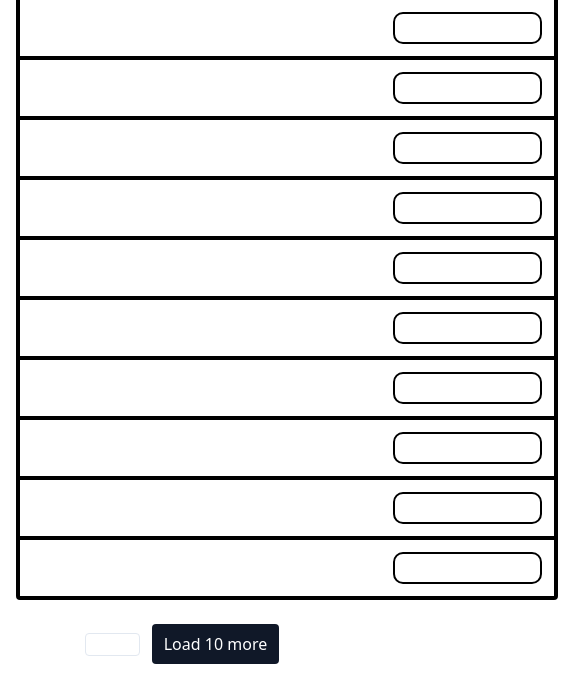
Test: LandmarksPage › Stage 10: clicking Load more reveals the next page and updates the counter
The width and height of the screenshot is (575, 682).
(page scrolled)
# Load next 10
Click the button "Load 10 more" at (215, 644), box [152,624,279,664]
(page scrolled)
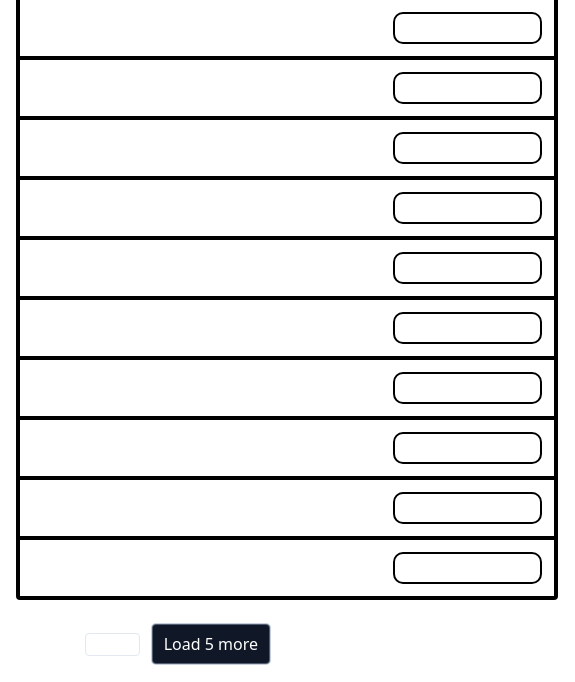
Expected: the text "Place 21" is not shown
# Load the last 5
Click the button "Load 5 more" at (211, 644), box [152,624,270,664]
(page scrolled)
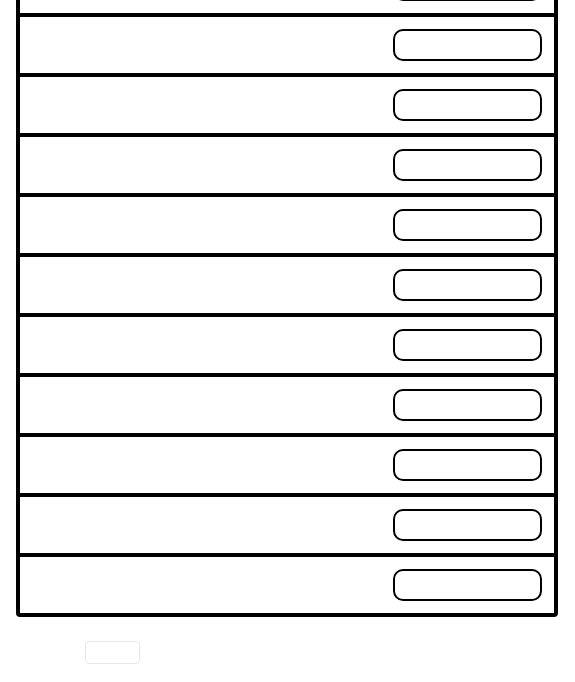
Result: the button "Load" is gone
